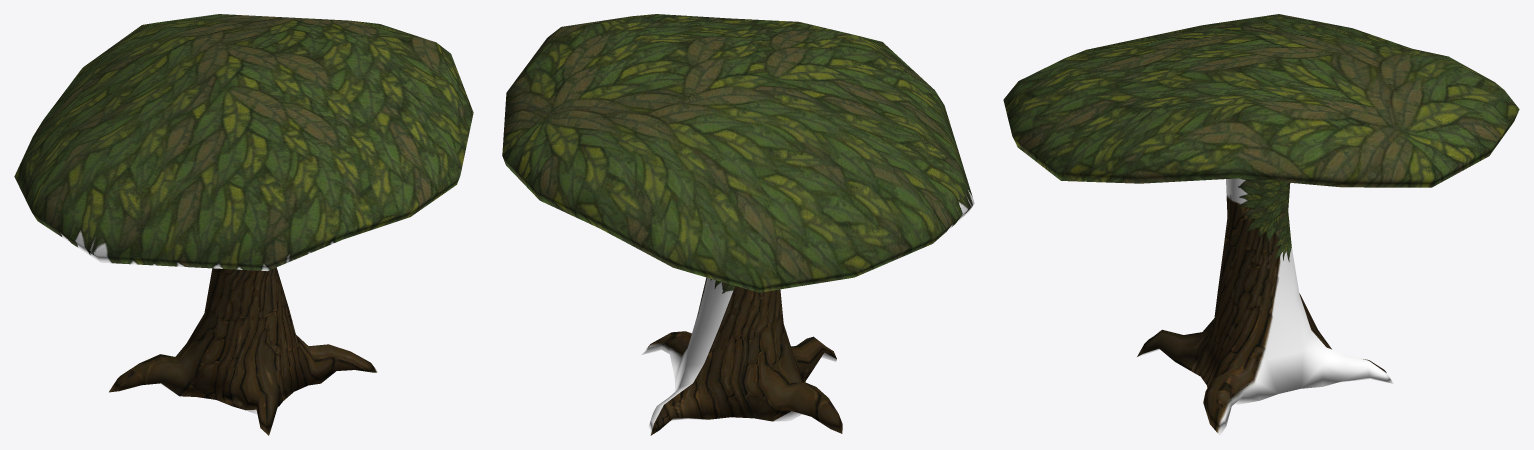
File: RootCaveTreeMother1Shape.dae
The picture shows the model from 3 angles, left to right: view 1: azimuth 30°, elevation 25°; view 2: azimuth 150°, elevation 25°; view 3: azimuth 270°, elevation 25°; orthographic projection. The views are drawn at different scales.
Visible parts, largest first — view 1: RootCaveTreeMother1; view 2: RootCaveTreeMother1; view 3: RootCaveTreeMother1.
Part boxes in pixels (x1=…): RootCaveTreeMother1: x1=14, y1=14, x2=473, y2=435; RootCaveTreeMother1: x1=502, y1=14, x2=974, y2=435; RootCaveTreeMother1: x1=1003, y1=14, x2=1519, y2=435.
Size of the model in its own units: 28.07 by 21.62 by 29.61.
